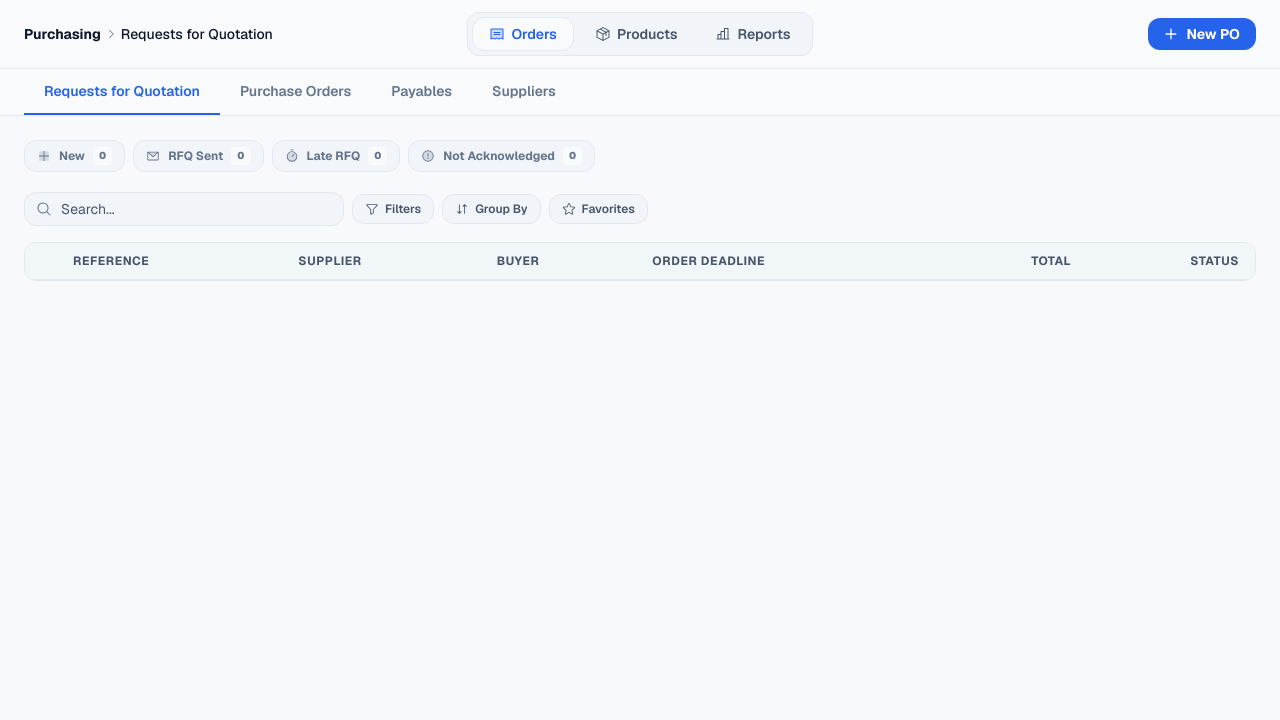
Test: Purchasing product publish switch › header status shows the pending state and marks it unsaved
This screenshot has width=1280, height=720.
Click the button "Products".
click(636, 34)  # box x1=578 y1=17 x2=694 y2=51
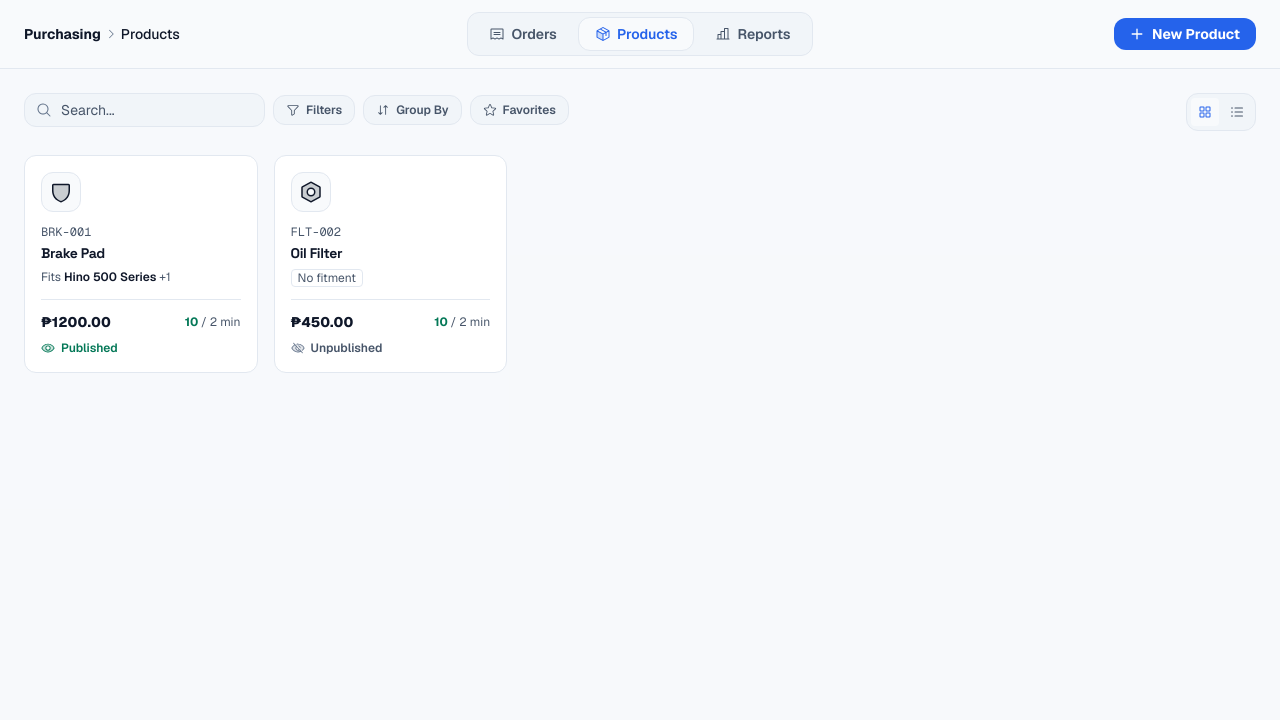
Press Enter in the button "Brake Pad", box x1=24 y1=155 x2=258 y2=373
(page scrolled)
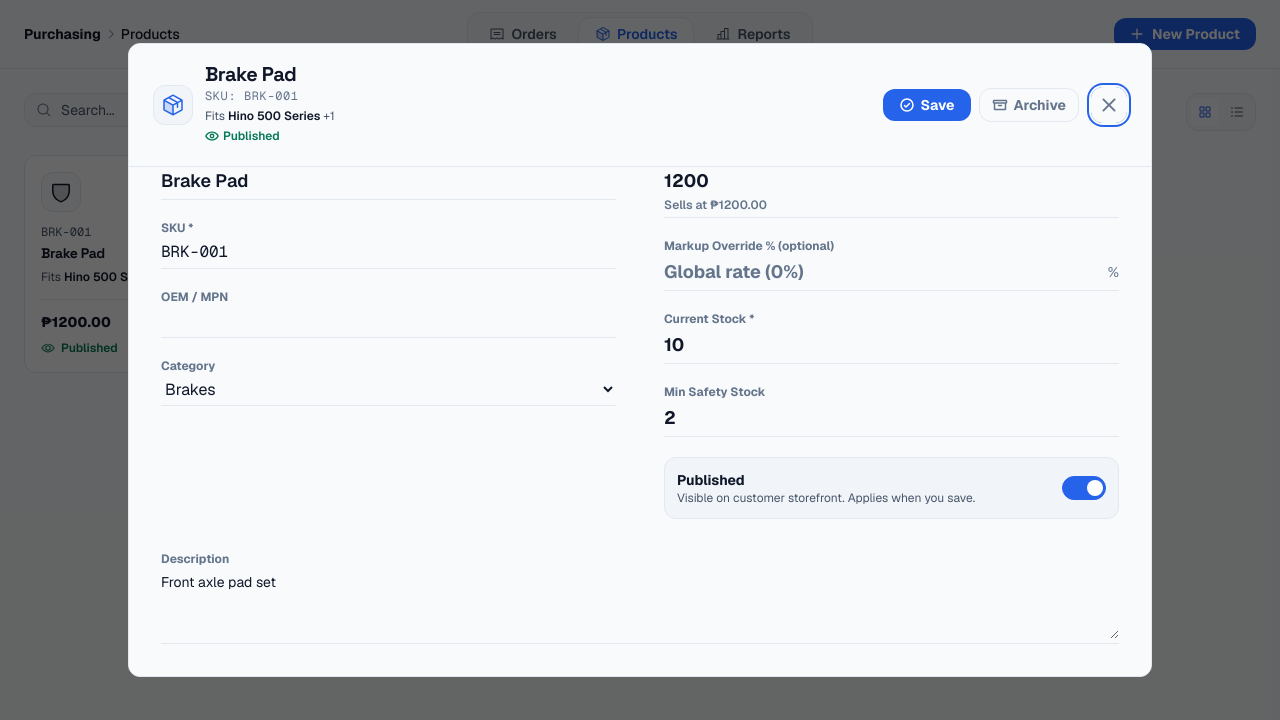
Now the element with test id "product-publish-status" reads "Published", box x1=223 y1=128 x2=280 y2=144
Click the switch named "published".
click(1084, 488)  # box x1=1062 y1=476 x2=1106 y2=500
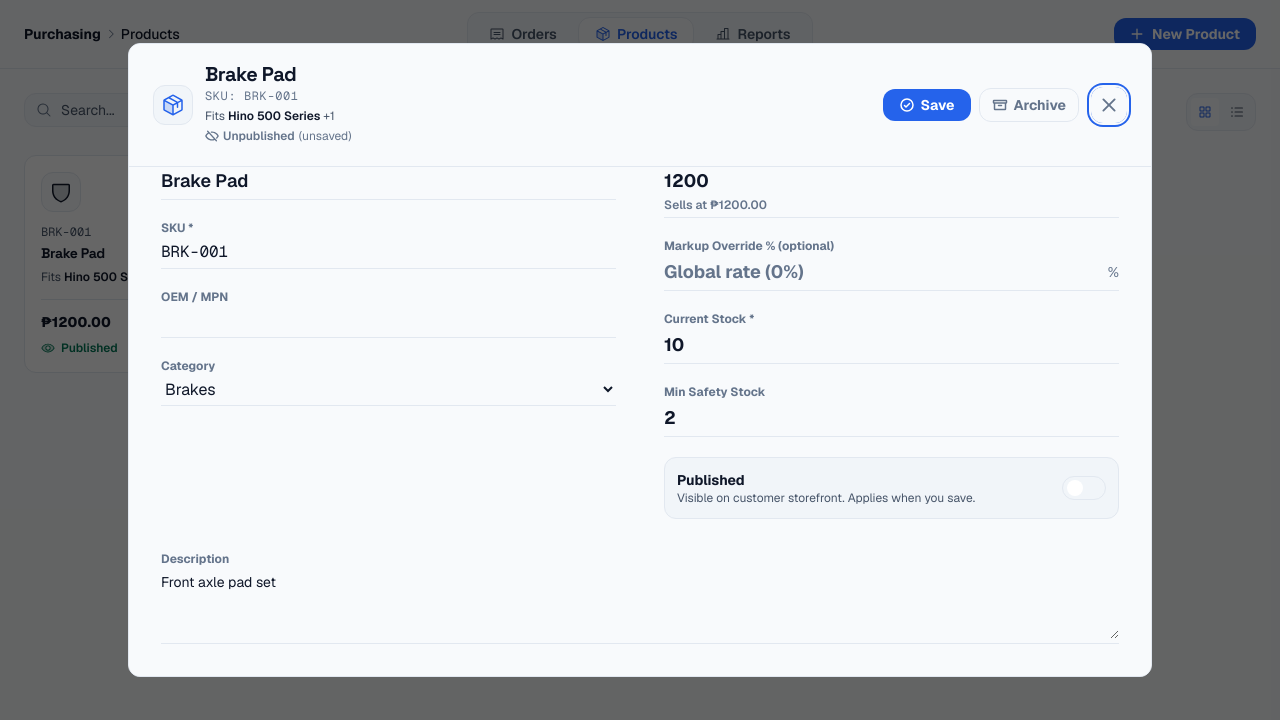
Now the element with test id "product-publish-status" reads "Unpublished (unsaved)", box x1=205 y1=128 x2=352 y2=144
